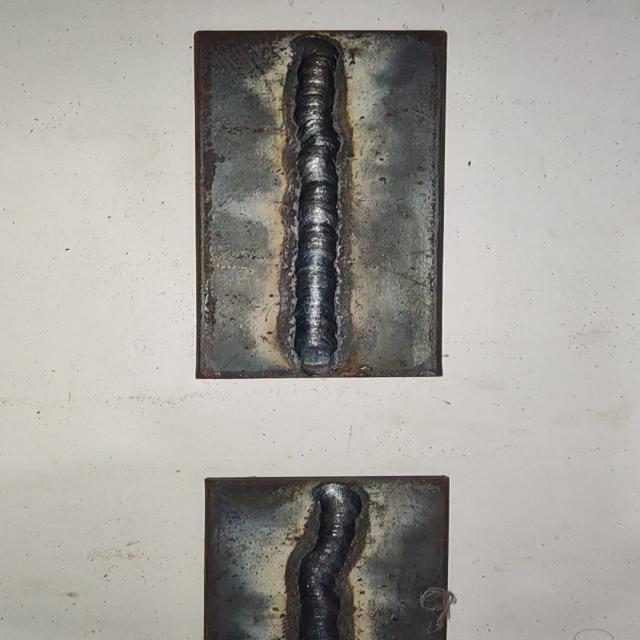Welding Line: (294, 34, 344, 369), (289, 483, 364, 640)
Workpiece: (181, 22, 452, 380), (192, 474, 462, 640)
